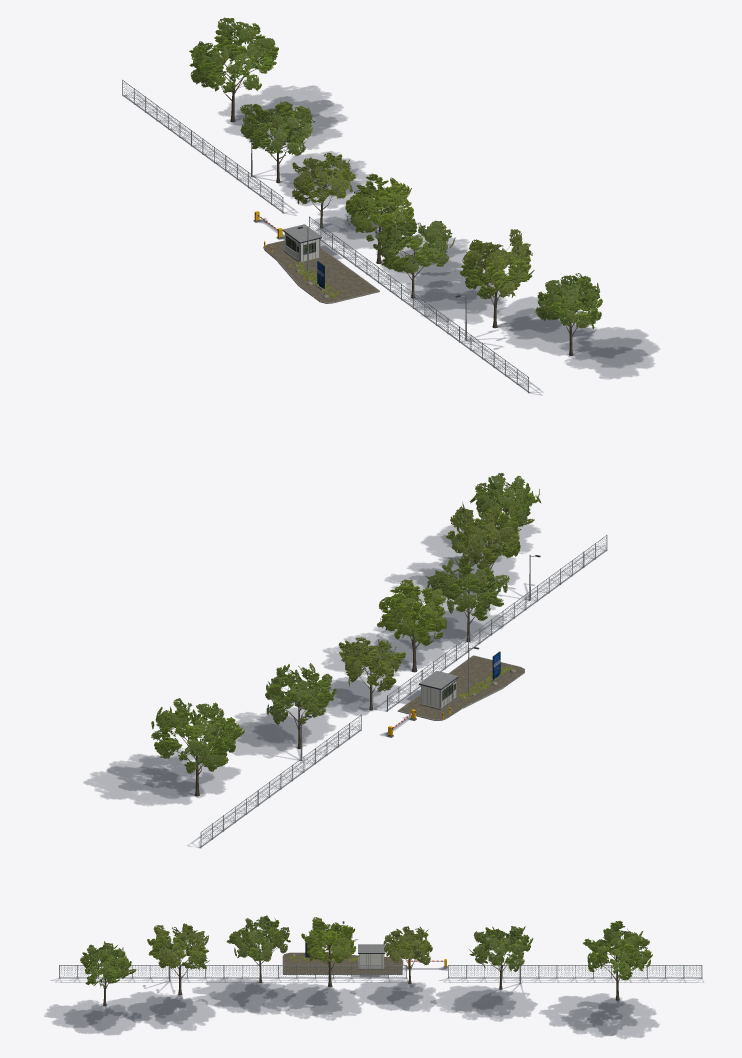
Rendered from werkseinfahrt.glb.
The picture shows the model from 3 angles, top to bottom: view 1: azimuth 30°, elevation 25°; view 2: azimuth 150°, elevation 25°; view 3: azimuth 270°, elevation 25°; orthographic projection. The views are drawn at different scales.
Visible parts, largest first — view 1: Y638_Hofbaeume_leaves, Y638_SchattenMinus_yardshadowMinus, Y638_SchattenPlus_yardshadowPlus, Y638_SchattenGerade_yardshadowGerade, Y638_Insel_gravel, Y638_Zaun_fence, Y638_Zaun_steel, Y638_Hofbaeume_bark; view 2: Y638_Hofbaeume_leaves, Y638_SchattenMinus_yardshadowMinus, Y638_SchattenPlus_yardshadowPlus, Y638_SchattenGerade_yardshadowGerade, Y638_Insel_gravel, Y638_Zaun_fence, Y638_Zaun_steel, Y638_Hofbaeume_bark, Y638_Pforte_steel; view 3: Y638_Hofbaeume_leaves, Y638_SchattenPlus_yardshadowPlus, Y638_SchattenMinus_yardshadowMinus, Y638_SchattenGerade_yardshadowGerade, Y638_Zaun_fence, Y638_Insel_gravel, Y638_Zaun_steel, Y638_Hofbaeume_bark, Y638_Pforte_ivory, Y638_Pforte_steel.
Part boxes in pixels (box(x1,y1,x2,y2)): Y638_Hofbaeume_leaves: box(189, 17, 602, 329); Y638_SchattenMinus_yardshadowMinus: box(125, 96, 654, 395); Y638_SchattenPlus_yardshadowPlus: box(124, 85, 647, 392); Y638_SchattenGerade_yardshadowGerade: box(137, 95, 659, 392); Y638_Insel_gravel: box(264, 240, 378, 302); Y638_Zaun_fence: box(123, 83, 527, 389); Y638_Zaun_steel: box(122, 79, 528, 393); Y638_Hofbaeume_bark: box(221, 40, 589, 355); Y638_Hofbaeume_leaves: box(151, 473, 541, 773); Y638_SchattenMinus_yardshadowMinus: box(139, 525, 605, 846); Y638_SchattenPlus_yardshadowPlus: box(84, 535, 604, 847); Y638_SchattenGerade_yardshadowGerade: box(107, 525, 603, 845); Y638_Insel_gravel: box(399, 656, 524, 719); Y638_Zaun_fence: box(201, 537, 606, 845); Y638_Zaun_steel: box(200, 535, 607, 847); Y638_Hofbaeume_bark: box(172, 485, 518, 796); Y638_Pforte_steel: box(419, 670, 458, 708); Y638_Hofbaeume_leaves: box(80, 915, 652, 987); Y638_SchattenPlus_yardshadowPlus: box(59, 968, 703, 1038); Y638_SchattenMinus_yardshadowMinus: box(44, 967, 700, 1030); Y638_SchattenGerade_yardshadowGerade: box(56, 968, 699, 1037); Y638_Zaun_fence: box(59, 965, 701, 976); Y638_Insel_gravel: box(283, 953, 402, 973); Y638_Zaun_steel: box(59, 965, 702, 977); Y638_Hofbaeume_bark: box(92, 928, 641, 1005); Y638_Pforte_ivory: box(359, 954, 383, 968); Y638_Pforte_steel: box(358, 944, 385, 968).
Bounding box in the file's own units: 37 × 12.51 × 110.
19 materials, 13 textured.
